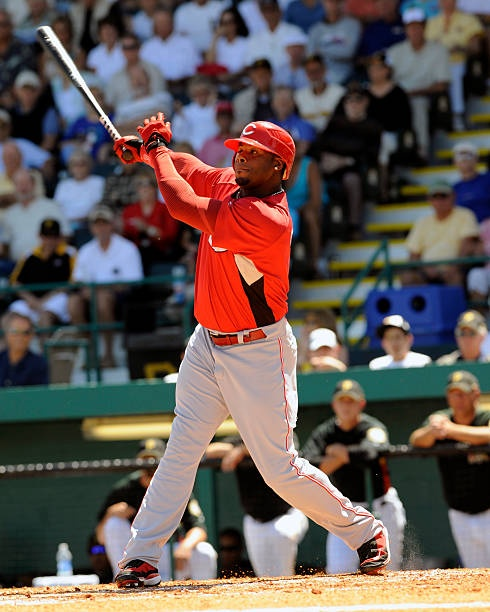bita: (31, 26, 139, 158)
